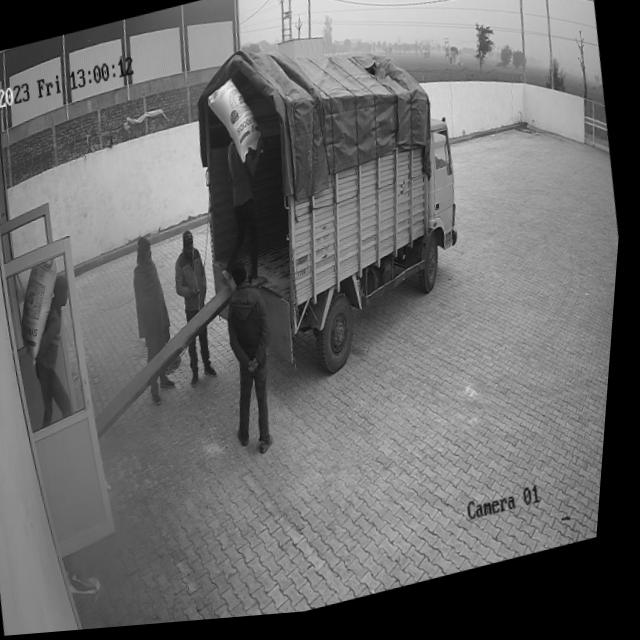sack: (13, 257, 78, 366), (202, 74, 271, 175)
